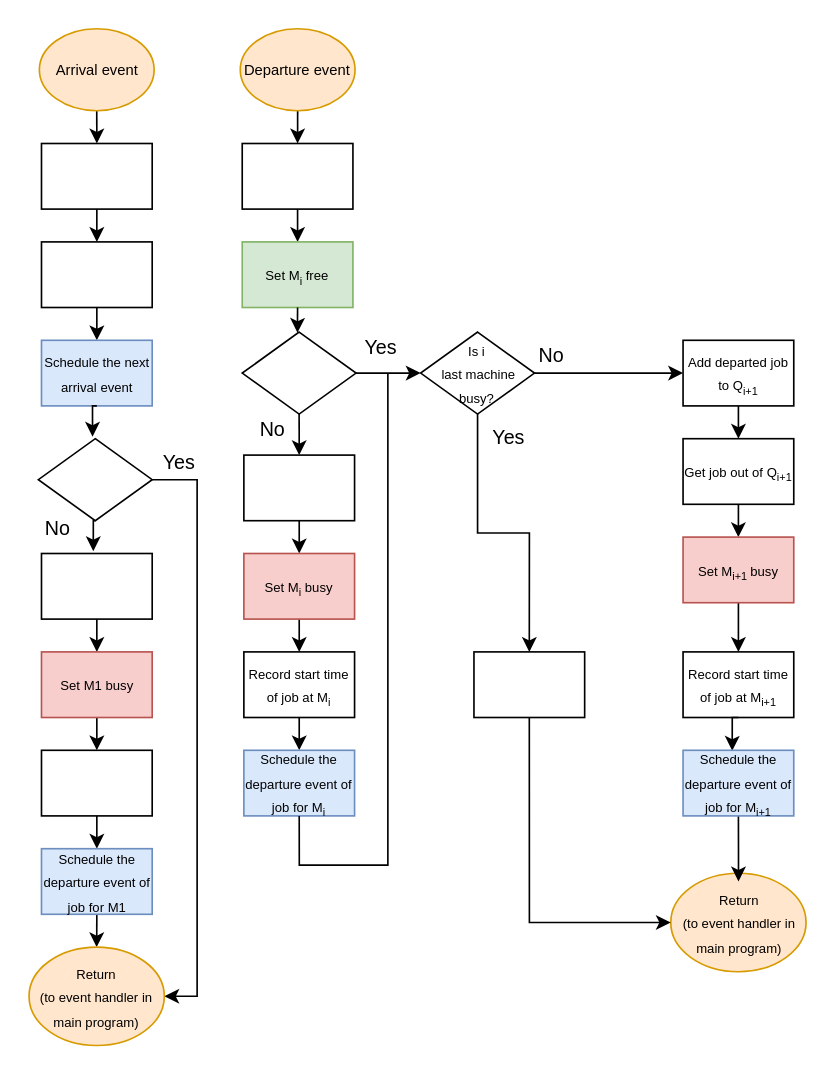
Image size: 835x1074. Some labels were removed from this diagram. The shapes that lost their labels are listed below. From the top down, each one's box as (x1, y1, x2, y2) in pixels, then its label:
(40, 142, 152, 209): Record arrival time of job
(241, 142, 353, 209): Record end time of Mi
(40, 240, 152, 308): Add job to Q1
(241, 330, 356, 414): Is Q i empty ?
(37, 437, 152, 521): Is M1 busy?
(242, 453, 355, 521): Get job out of Q i
(40, 552, 152, 619): Get job out of Q1
(472, 650, 585, 718): Record the flow time
(40, 749, 152, 816): Record start time of job at M1
